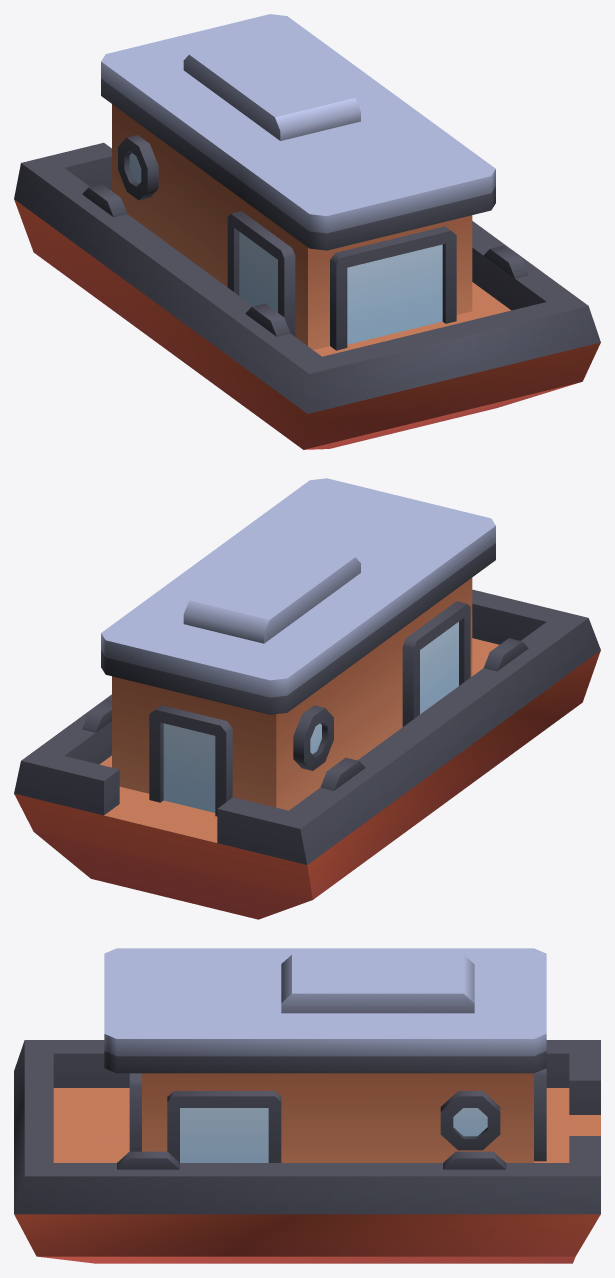
Rendered from boat-house-a-transformed.glb.
The picture shows the model from 3 angles, top to bottom: view 1: azimuth 30°, elevation 25°; view 2: azimuth 150°, elevation 25°; view 3: azimuth 270°, elevation 25°; orthographic projection.
Visible parts, largest first — view 1: boat-house-a; view 2: boat-house-a; view 3: boat-house-a.
Part boxes in pixels (box(x1,y1,x2,y2)): boat-house-a: box(14, 14, 600, 449); boat-house-a: box(14, 478, 600, 919); boat-house-a: box(14, 948, 600, 1263).
Bounding box in the file's own units: 2.68 × 2.17 × 4.64.
1 material, 1 textured.
